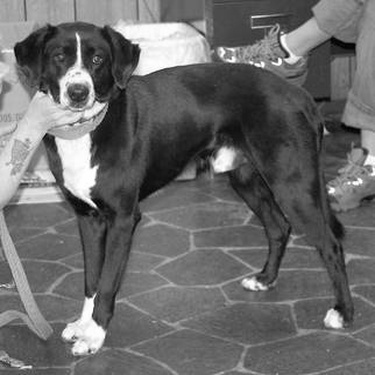dog: (6, 16, 360, 359)
